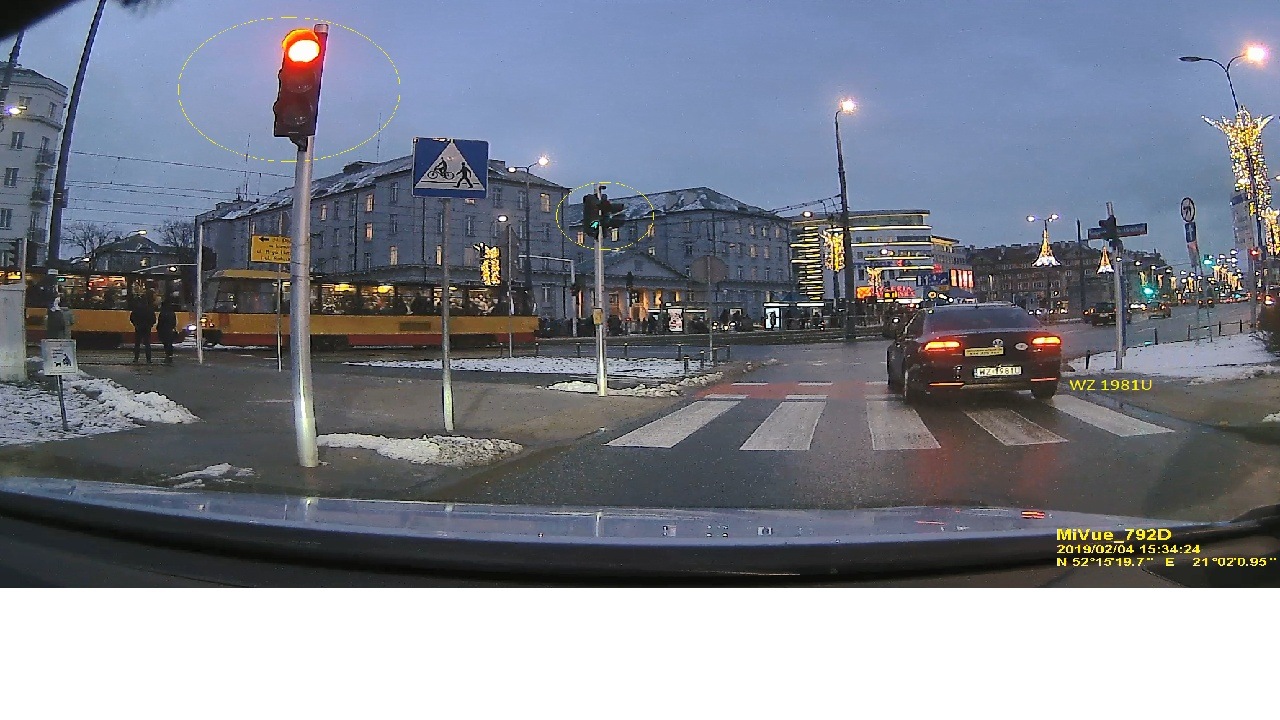D6b: (415, 132, 494, 201)
